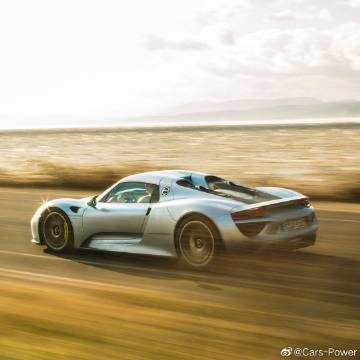other: (28, 172, 322, 269)
